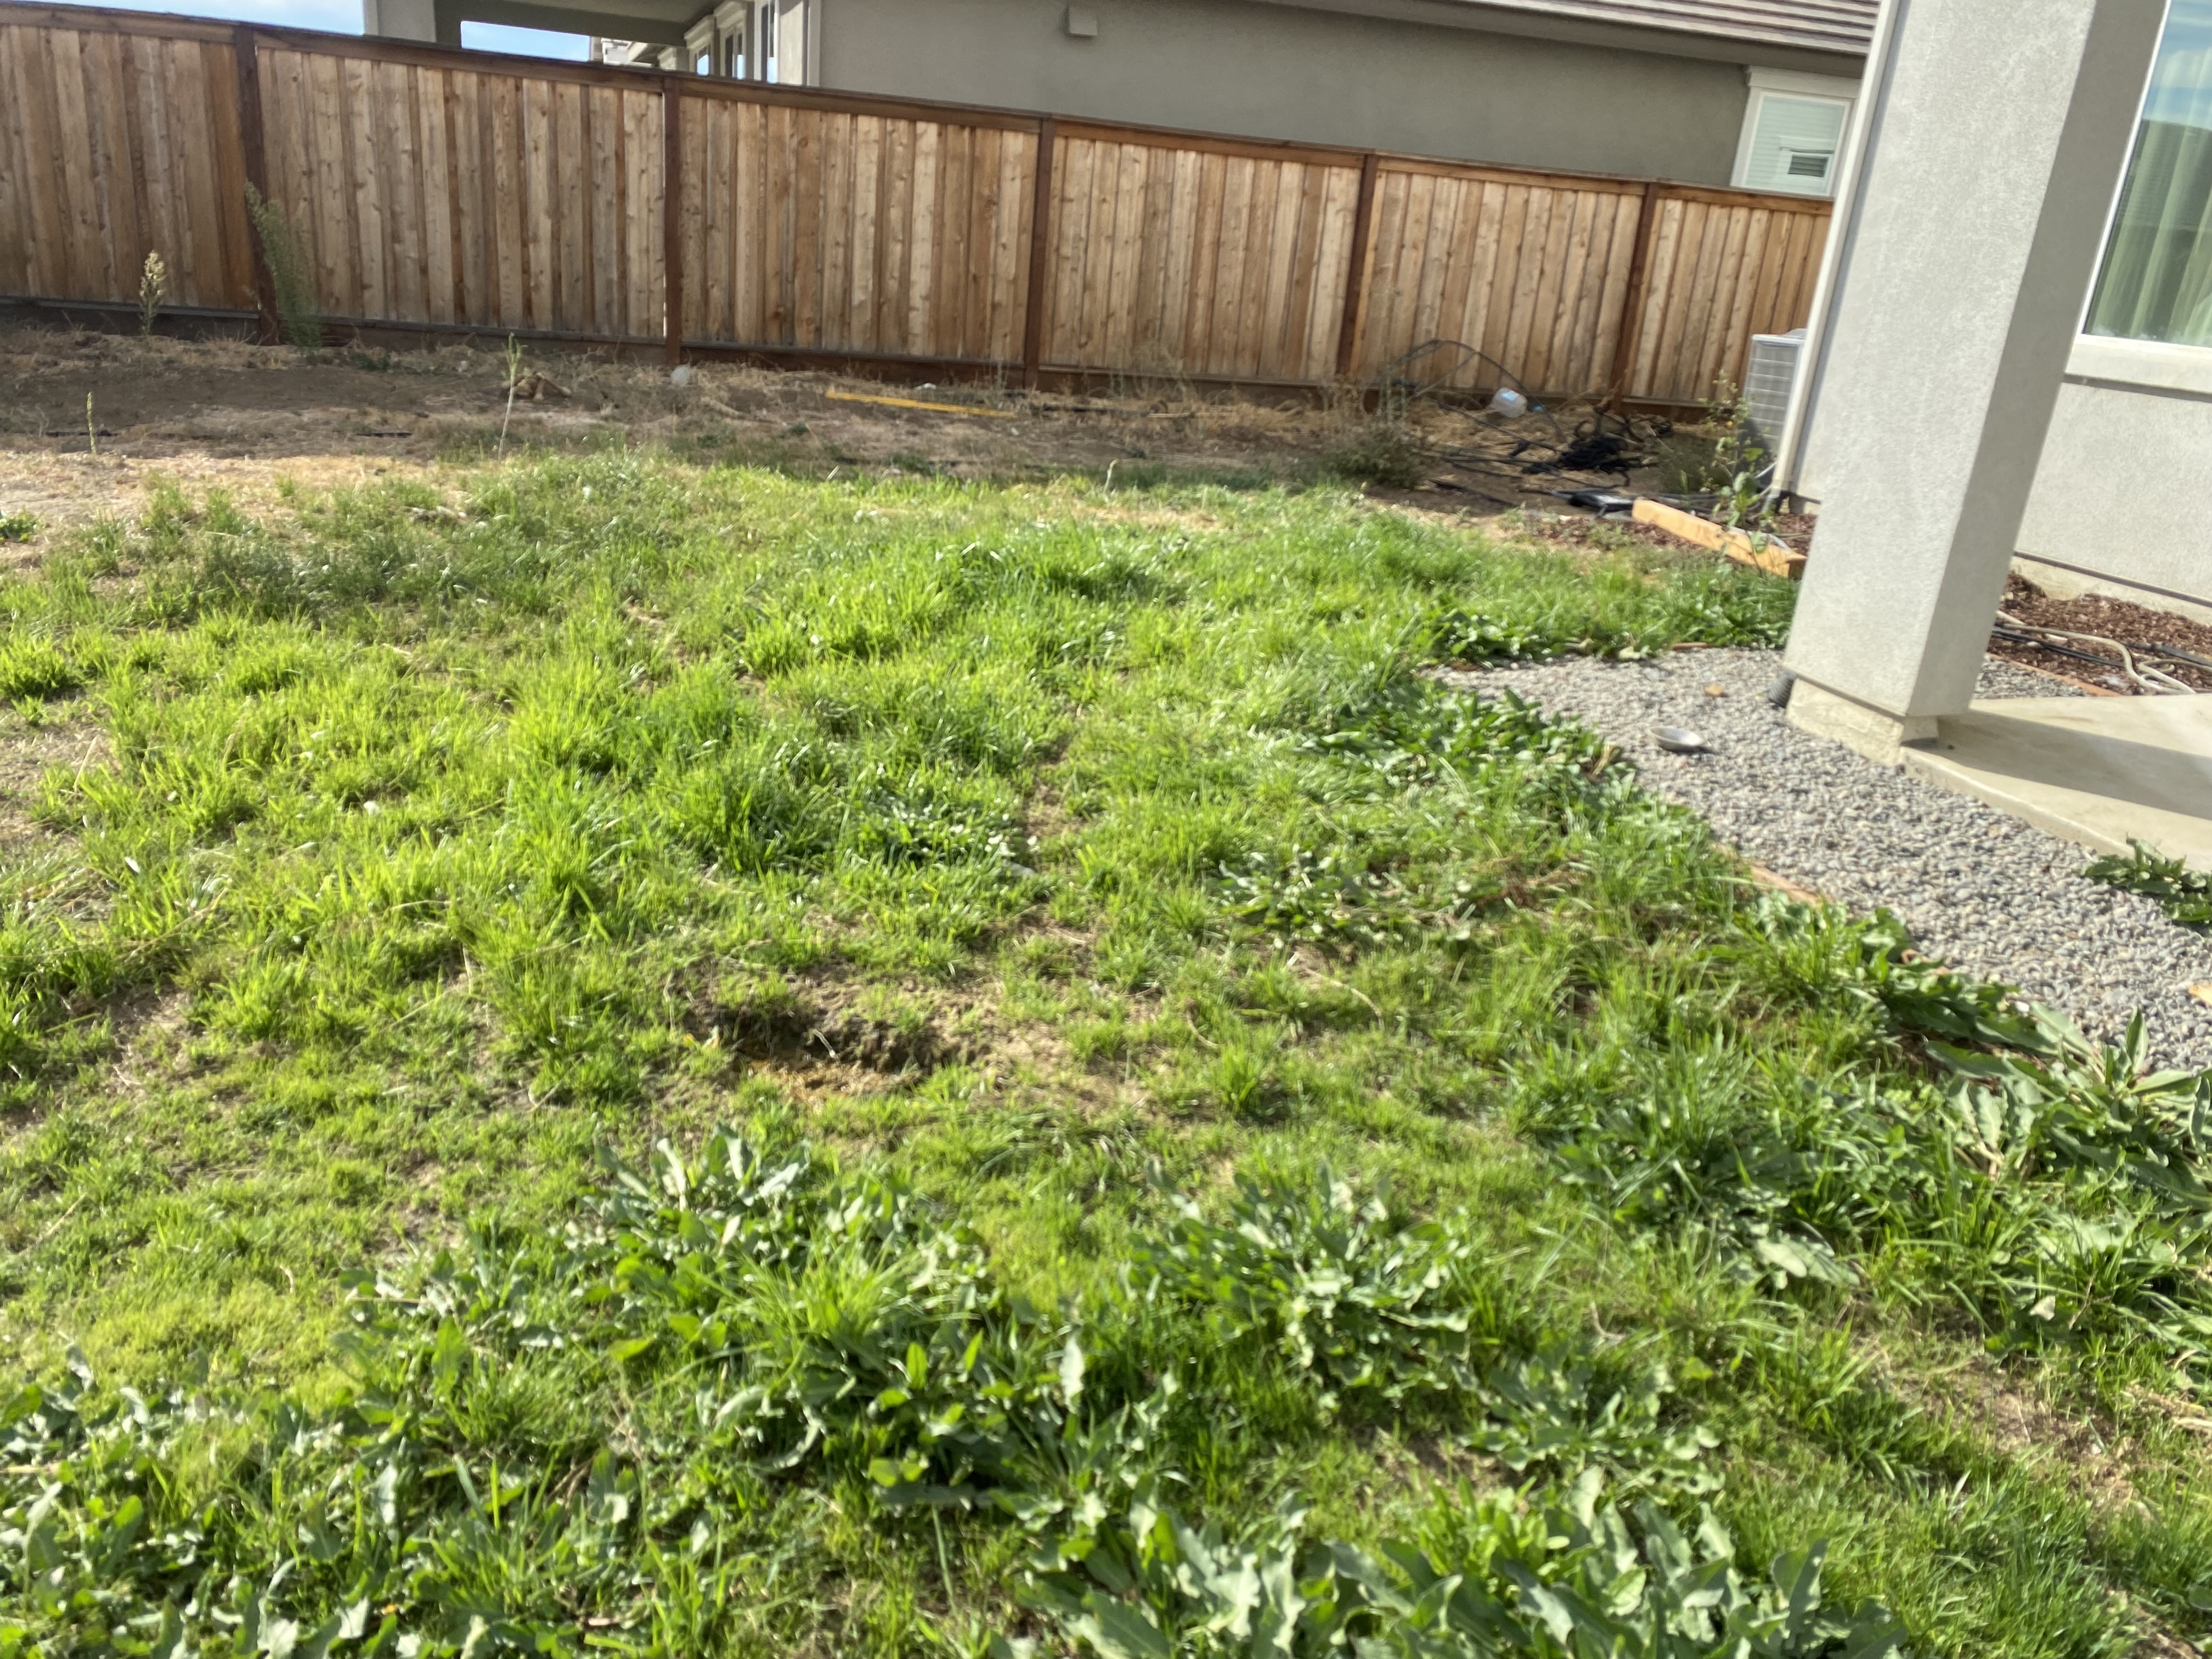weed: (1470, 1432, 1764, 1635), (12, 1368, 232, 1588), (1224, 1171, 1470, 1356), (1785, 890, 2017, 1061), (1451, 1333, 1700, 1490), (2017, 1021, 2212, 1220), (583, 1131, 824, 1267), (1339, 659, 1564, 774), (2083, 816, 2212, 953), (1413, 606, 1533, 676)
